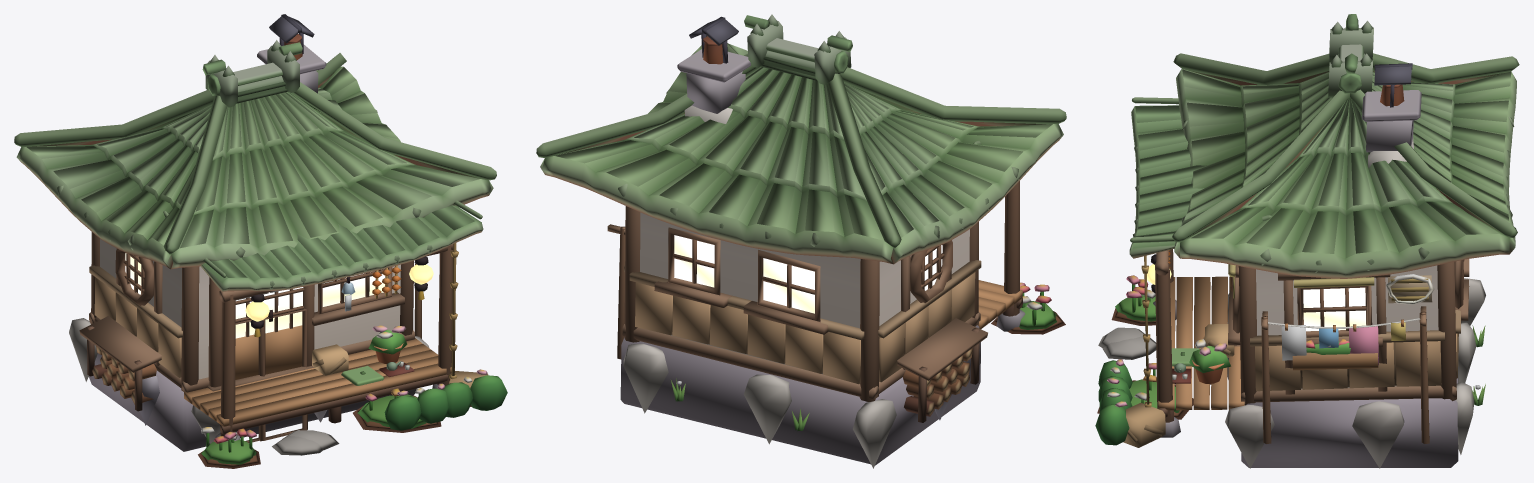
File: home-2-v0.glb
The picture shows the model from 3 angles, left to right: view 1: azimuth 30°, elevation 25°; view 2: azimuth 150°, elevation 25°; view 3: azimuth 270°, elevation 25°; orthographic projection. The views are drawn at different scales.
Visible parts, largest first — view 1: home, window_glow; view 2: home, window_glow; view 3: home, window_glow.
Part boxes in pixels (<box>): home: <box>14,14,507,468</box>; window_glow: <box>125,253,433,338</box>; home: <box>536,14,1066,468</box>; window_glow: <box>674,235,942,313</box>; home: <box>1095,14,1519,468</box>; window_glow: <box>1147,264,1366,331</box>.
Bounding box in the file's own units: 3.44 × 3.42 × 3.48.
